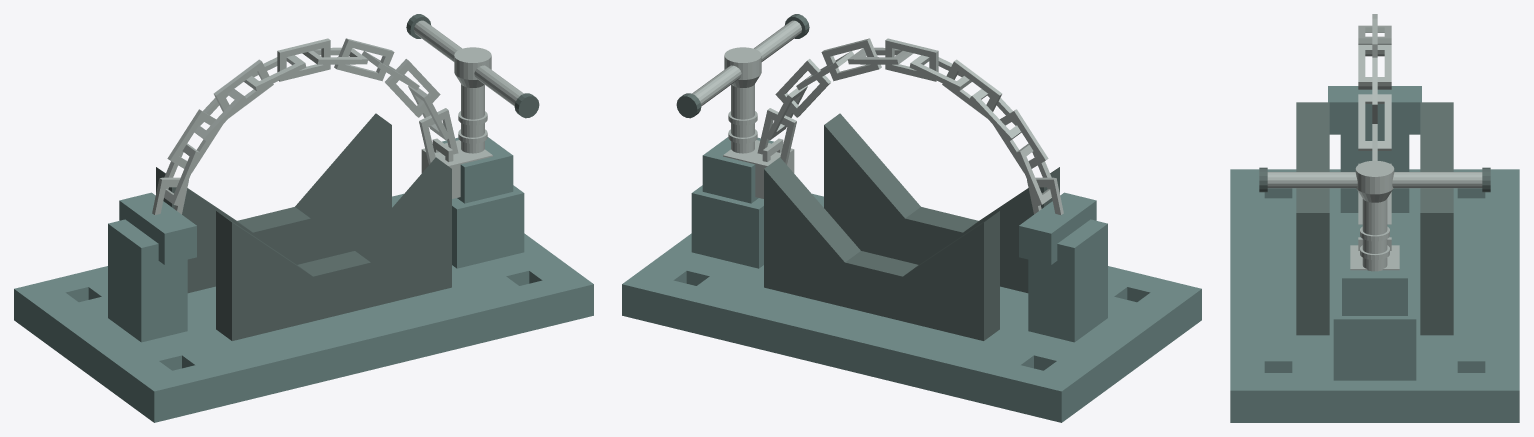
3 renders of one model, left to right at view 1: azimuth 30°, elevation 25°; view 2: azimuth 150°, elevation 25°; view 3: azimuth 270°, elevation 25°, orthographic. The views are drawn at different scales.
Parts seen in each view (by area): view 1: WholeFourBoreGroundMountingPlate, WholeVGrooveSaddleJaw_0.045, WholeVGrooveSaddleJaw_-0.045, WholeFixedLeftChainAnchor, WholeRightSpindleGuide, WholeFixedTensionSpindle, WholeCrossHandle, WholeAlternatingOpenChainLink_07, WholeAlternatingOpenChainLink_05, WholeAlternatingOpenChainLink_09, WholeRightChainEndConnector, WholeAlternatingOpenChainLink_03 (+8 smaller); view 2: WholeFourBoreGroundMountingPlate, WholeVGrooveSaddleJaw_-0.045, WholeVGrooveSaddleJaw_0.045, WholeFixedLeftChainAnchor, WholeRightSpindleGuide, WholeFixedTensionSpindle, WholeCrossHandle, WholeAlternatingOpenChainLink_07, WholeAlternatingOpenChainLink_05, WholeAlternatingOpenChainLink_09, WholeRightChainEndConnector, WholeAlternatingOpenChainLink_03 (+8 smaller); view 3: WholeFourBoreGroundMountingPlate, WholeRightSpindleGuide, WholeVGrooveSaddleJaw_-0.045, WholeVGrooveSaddleJaw_0.045, WholeFixedLeftChainAnchor, WholeCrossHandle, WholeFixedTensionSpindle, WholeAlternatingOpenChainLink_04, WholeAlternatingOpenChainLink_06, WholeRightChainEndConnector, WholeAlternatingOpenChainLink_08, WholeAlternatingOpenChainLink_05 (+1 smaller).
Boxes of the visible parts, x1,y1,x2,y2 form: WholeFourBoreGroundMountingPlate: [14, 193, 593, 422]; WholeVGrooveSaddleJaw_0.045: [216, 157, 451, 340]; WholeVGrooveSaddleJaw_-0.045: [156, 113, 391, 293]; WholeFixedLeftChainAnchor: [108, 192, 196, 342]; WholeRightSpindleGuide: [442, 137, 524, 268]; WholeFixedTensionSpindle: [454, 47, 491, 153]; WholeCrossHandle: [414, 20, 523, 106]; WholeAlternatingOpenChainLink_07: [277, 38, 330, 81]; WholeAlternatingOpenChainLink_05: [334, 38, 394, 81]; WholeAlternatingOpenChainLink_09: [213, 59, 273, 117]; WholeRightChainEndConnector: [421, 140, 492, 198]; WholeAlternatingOpenChainLink_03: [385, 59, 440, 117]; WholeFourBoreGroundMountingPlate: [622, 193, 1201, 422]; WholeVGrooveSaddleJaw_-0.045: [764, 157, 999, 340]; WholeVGrooveSaddleJaw_0.045: [824, 113, 1059, 293]; WholeFixedLeftChainAnchor: [1019, 192, 1107, 342]; WholeRightSpindleGuide: [691, 137, 773, 268]; WholeFixedTensionSpindle: [724, 47, 761, 153]; WholeCrossHandle: [692, 20, 801, 106]; WholeAlternatingOpenChainLink_07: [885, 38, 938, 81]; WholeAlternatingOpenChainLink_05: [821, 38, 881, 81]; WholeAlternatingOpenChainLink_09: [942, 59, 1002, 117]; WholeRightChainEndConnector: [723, 140, 794, 198]; WholeAlternatingOpenChainLink_03: [775, 59, 830, 117]; WholeFourBoreGroundMountingPlate: [1230, 169, 1519, 422]; WholeRightSpindleGuide: [1333, 254, 1416, 380]; WholeVGrooveSaddleJaw_-0.045: [1420, 102, 1453, 335]; WholeVGrooveSaddleJaw_0.045: [1296, 102, 1329, 335]; WholeFixedLeftChainAnchor: [1328, 86, 1421, 212]; WholeCrossHandle: [1267, 172, 1482, 188]; WholeFixedTensionSpindle: [1355, 160, 1394, 271]; WholeAlternatingOpenChainLink_04: [1358, 94, 1391, 150]; WholeAlternatingOpenChainLink_06: [1358, 45, 1391, 86]; WholeRightChainEndConnector: [1350, 245, 1399, 270]; WholeAlternatingOpenChainLink_08: [1358, 25, 1391, 43]; WholeAlternatingOpenChainLink_05: [1372, 57, 1377, 123].
Bounding box in the file's own units: 0.38 × 0.225 × 0.21.
